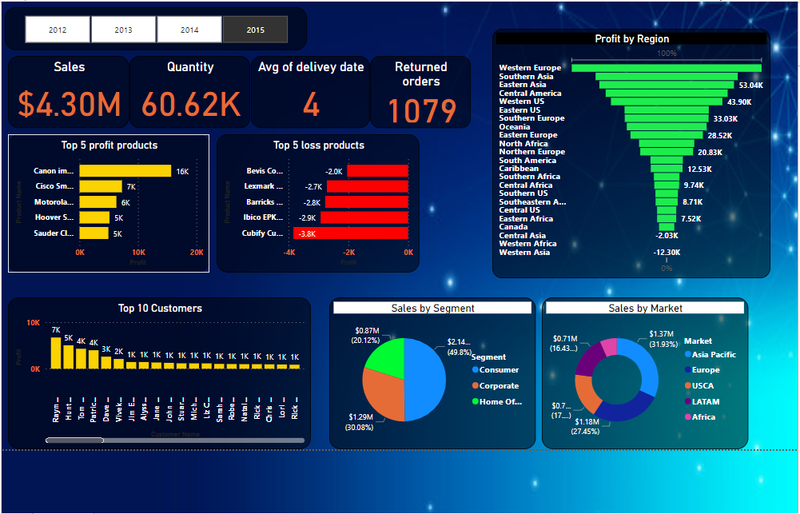

Layout of this report page (visuals, bound fields, positions):
{"tool":"powerbi","page":{"name":"Page 1","canvas":[1280,720],"ordinal":0},"visuals":[{"type":"card","title":"Sales","fields":{"Values":["Sum(Orders.Sales)"]},"box":[10.3,87.4,195.3,115.7],"z":0},{"type":"card","title":"Quantity","fields":{"Values":["Sum(Orders.Quantity)"]},"box":[205.6,87.4,194.1,115.7],"z":1000},{"type":"card","title":"Avg of delivey date","fields":{"Values":["Avg(Orders.Delivery date)"]},"box":[401,87.4,191.5,115.7],"z":2000},{"type":"slicer","fields":{"Values":["Orders.Year"]},"box":[4.6,9.1,486.5,69.5],"z":3000},{"type":"card","title":"Returned orders","fields":{"Values":["Sum(Returns.Returned orders)"]},"box":[592.4,87.4,161.9,115.7],"z":4000},{"type":"barChart","title":"Top 5 profit products","fields":{"Y":["Sum(Orders.Profit)"],"Category":["Orders.Product Name"]},"box":[10.3,213.3,323.9,222.3],"z":5000},{"type":"barChart","title":"Top 5 loss products","fields":{"Y":["Sum(Orders.Profit)"],"Category":["Orders.Product Name"]},"box":[345.7,213.3,326.4,222.3],"z":7000},{"type":"pieChart","fields":{"Category":["Orders.Segment"],"Y":["Sum(Orders.Sales)"]},"box":[526.9,475.5,331.6,244.2],"z":8000},{"type":"columnChart","title":"Top 10 Customers","fields":{"Y":["Sum(Orders.Profit)"],"Category":["Orders.Customer Name"]},"box":[10.3,475.5,487.1,244.2],"z":10000},{"type":"donutChart","fields":{"Y":["Sum(Orders.Sales)"],"Category":["Orders.Market"]},"box":[868.8,475.5,331.6,244.2],"z":11000},{"type":"funnel","fields":{"Category":["Orders.Category"],"Y":["Sum(Orders.Profit)"]},"box":[780.1,9,489.6,453.7],"z":11002}]}

Visuals, with their boxes on the page's 1280x720 design canvas (x1, y1, x2, y2). These are canvas units, not pixel positions in the 800x514 screenshot, which may show the page scaled, cropped or inside an application window:
"Sales" card: bbox=(10, 87, 206, 203)
"Quantity" card: bbox=(206, 87, 400, 203)
"Avg of delivey date" card: bbox=(401, 87, 592, 203)
slicer - Orders.Year: bbox=(5, 9, 491, 79)
"Returned orders" card: bbox=(592, 87, 754, 203)
"Top 5 profit products" barChart: bbox=(10, 213, 334, 436)
"Top 5 loss products" barChart: bbox=(346, 213, 672, 436)
pieChart - Orders.Segment x Sum(Orders.Sales): bbox=(527, 476, 858, 720)
"Top 10 Customers" columnChart: bbox=(10, 476, 497, 720)
donutChart - Sum(Orders.Sales) x Orders.Market: bbox=(869, 476, 1200, 720)
funnel - Orders.Category x Sum(Orders.Profit): bbox=(780, 9, 1270, 463)
